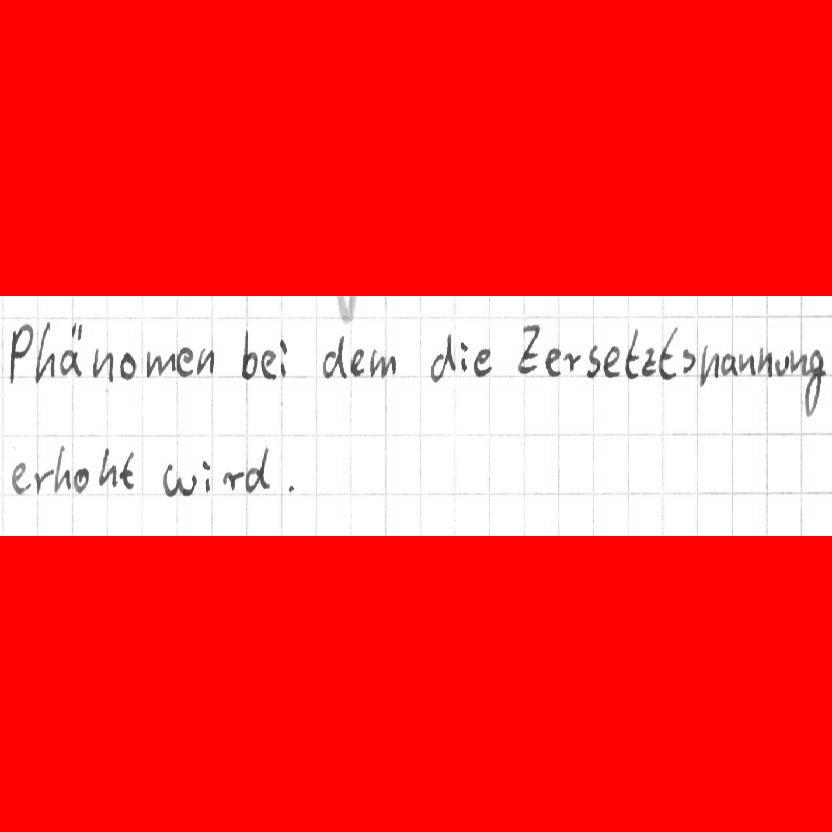Char: (8, 320, 35, 388), (33, 318, 58, 387), (59, 319, 86, 378), (515, 322, 542, 378), (804, 347, 825, 419), (428, 332, 457, 384), (243, 446, 271, 495), (162, 462, 198, 500), (321, 334, 350, 381), (658, 324, 680, 381), (143, 347, 177, 381), (239, 326, 260, 381), (697, 341, 719, 389), (623, 326, 640, 381), (367, 348, 396, 380), (96, 445, 118, 487), (54, 443, 72, 494), (92, 346, 115, 385), (601, 343, 623, 379), (10, 460, 31, 496), (471, 346, 493, 379), (118, 450, 136, 489), (118, 350, 139, 382), (176, 345, 195, 379), (259, 348, 278, 381), (788, 347, 808, 377), (195, 346, 214, 377), (33, 467, 54, 495), (756, 344, 773, 378), (584, 342, 600, 378), (220, 468, 245, 491), (544, 348, 564, 376), (348, 347, 365, 378), (640, 346, 657, 377), (681, 346, 699, 374), (73, 466, 89, 495), (738, 352, 756, 377), (560, 350, 580, 372), (278, 337, 288, 379), (457, 339, 469, 374), (721, 352, 736, 378), (201, 458, 211, 495), (773, 354, 789, 376), (283, 478, 299, 499)
